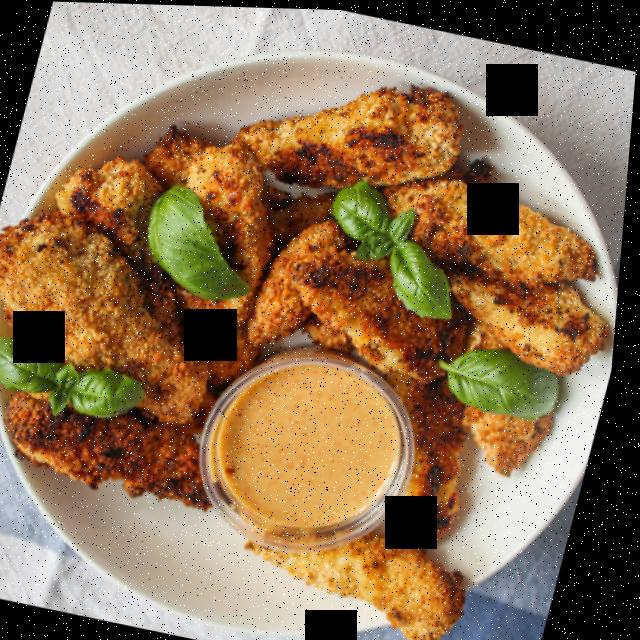Frango: (0, 1, 640, 640)
